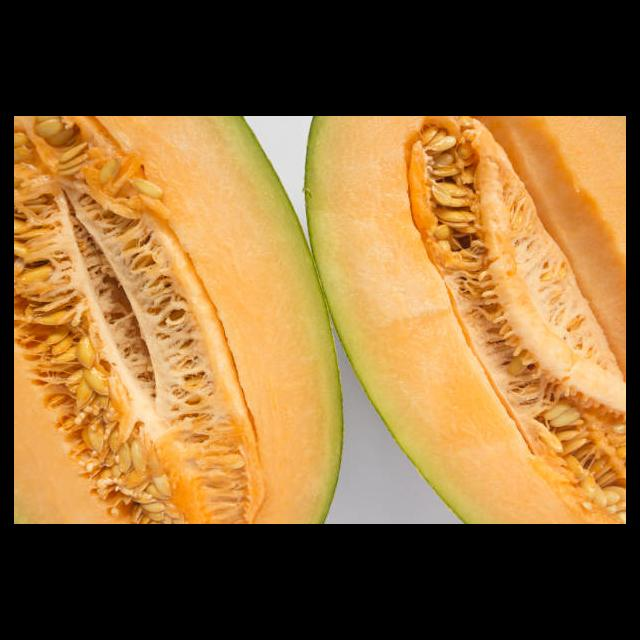Hami Melon: (14, 116, 345, 524), (304, 116, 626, 524)
